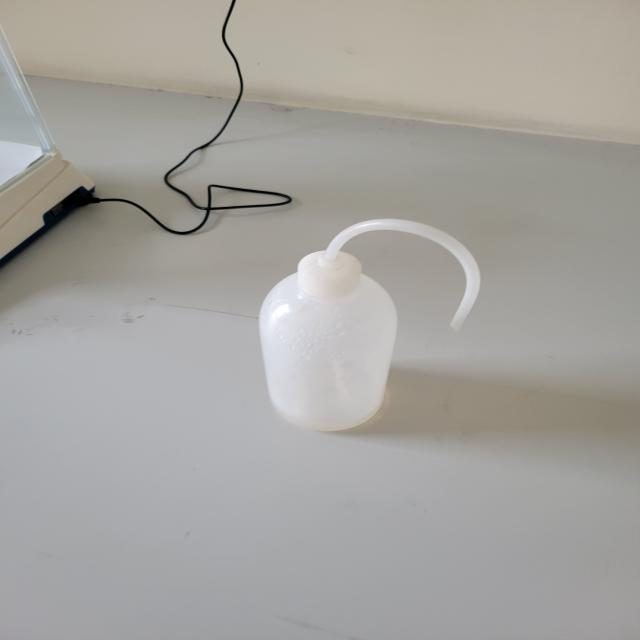Wash_Bottle: (212, 146, 514, 459)
